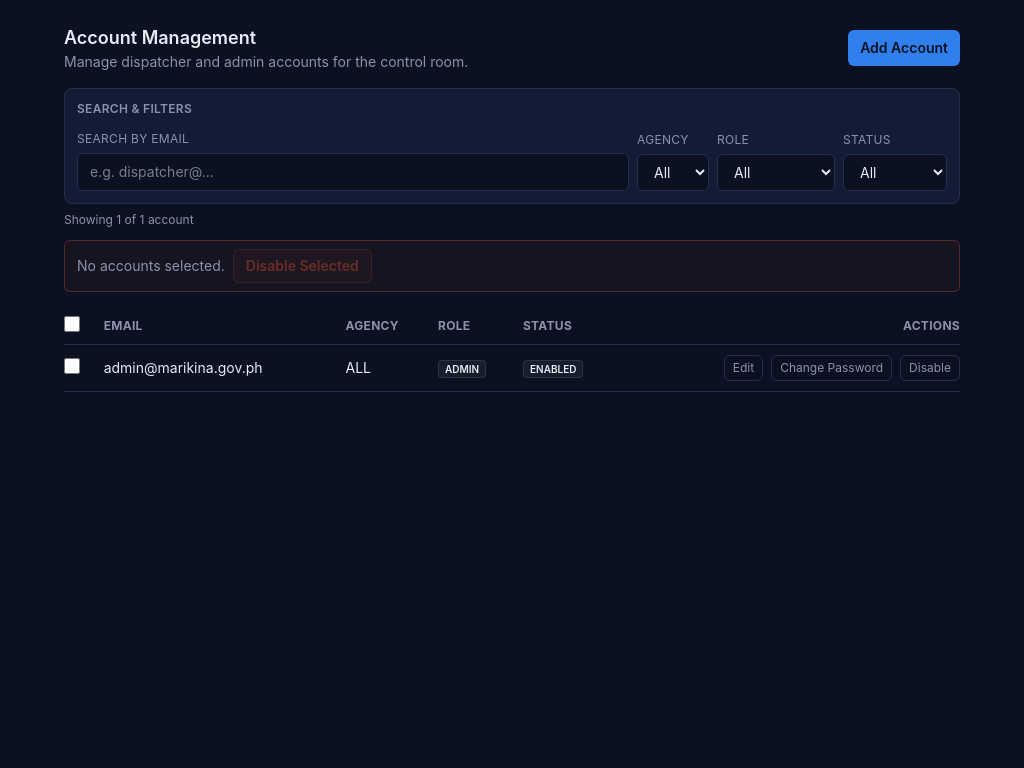
Scenario: UserManagement › 5. Edit opens the form pre-filled with the existing user data (no password field)
Click the button "Edit" at (743, 368), box [724,355,763,381]
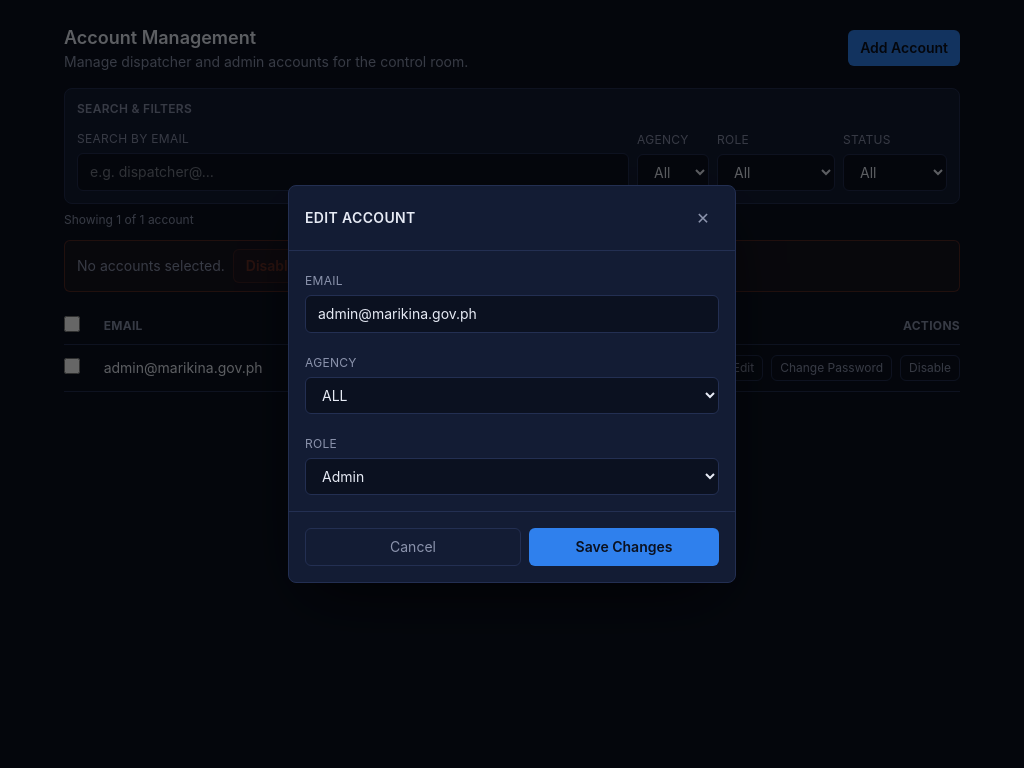
Expected: the field labelled "Email" holds "admin@marikina.gov.ph", [305,295,719,333]
Expected: the dropdown labelled "Agency" shows "ALL", [305,377,719,414]
Expected: the dropdown labelled "Role" shows "Admin", [305,458,719,495]
